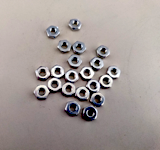nut: (65, 101, 81, 117), (83, 106, 98, 122), (34, 86, 50, 100), (62, 82, 76, 97), (36, 67, 50, 81), (48, 78, 62, 92), (65, 70, 79, 84), (91, 93, 105, 107), (76, 87, 90, 101), (90, 58, 104, 72), (107, 66, 121, 80), (57, 40, 72, 53), (68, 55, 83, 68), (80, 67, 95, 80), (46, 26, 60, 39), (51, 65, 65, 78), (73, 41, 87, 54), (87, 80, 101, 93), (100, 75, 113, 89), (97, 46, 110, 59), (69, 20, 82, 32)
